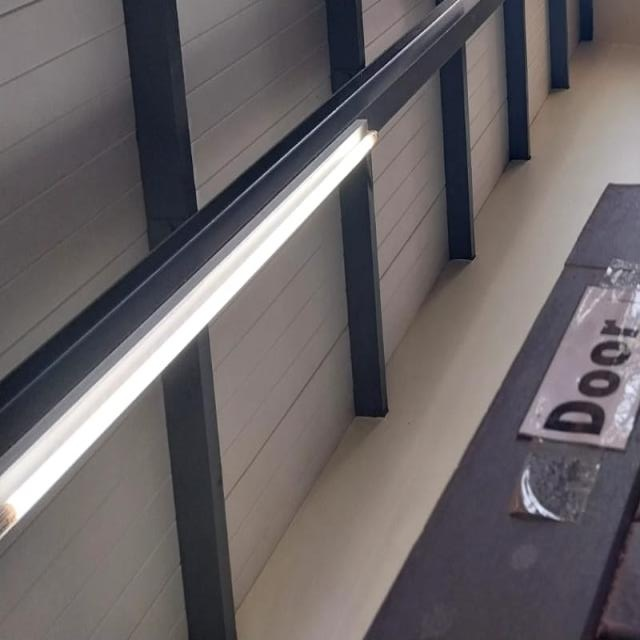fluorescent tube: (0, 77, 404, 640), (508, 0, 616, 6)
